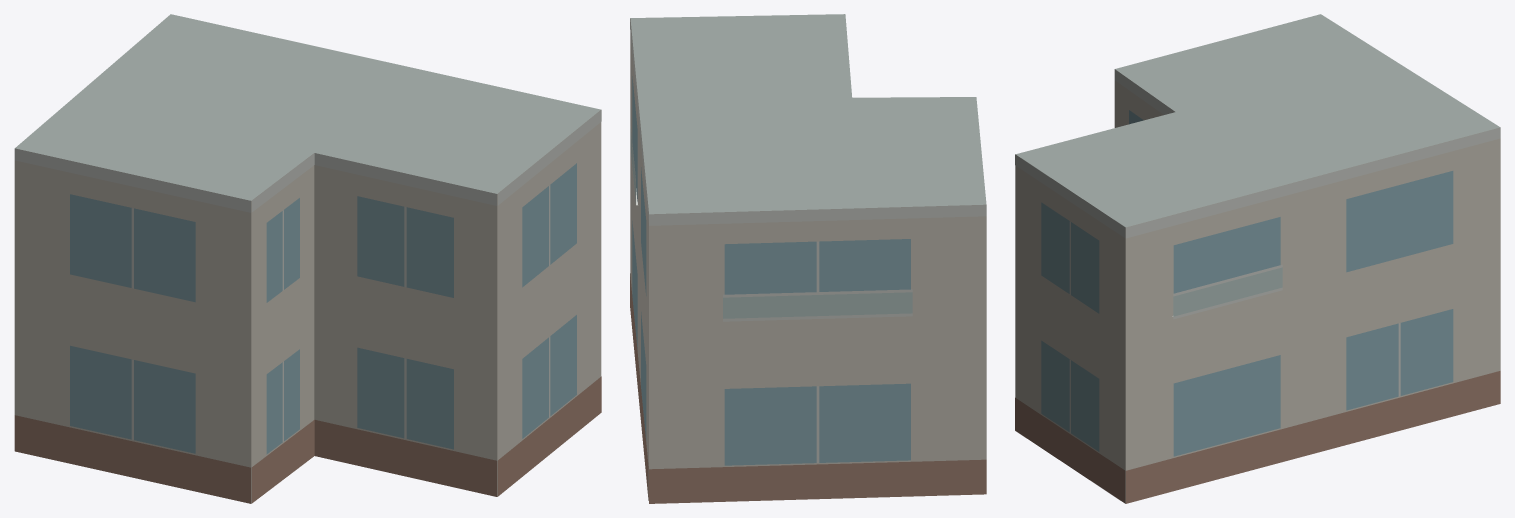
File: survey-upis-32971718.glb
The picture shows the model from 3 angles, left to right: view 1: azimuth 30°, elevation 25°; view 2: azimuth 150°, elevation 25°; view 3: azimuth 270°, elevation 25°; orthographic projection. The views are drawn at different scales.
Parts seen in each view (by area): view 1: survey-upis-32971718.tmp; view 2: survey-upis-32971718.tmp; view 3: survey-upis-32971718.tmp.
Part boxes in pixels (box(x1,y1,x2,y2)): survey-upis-32971718.tmp: box(14, 14, 601, 503); survey-upis-32971718.tmp: box(630, 14, 986, 503); survey-upis-32971718.tmp: box(1015, 14, 1500, 503).
Size of the model in its own units: 10.11 by 6.1 by 9.72.
